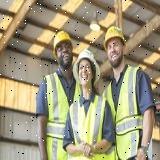Helmet: (53, 30, 74, 59), (103, 26, 126, 52)
Vest: (101, 65, 150, 160), (42, 70, 82, 160), (68, 96, 114, 160)
